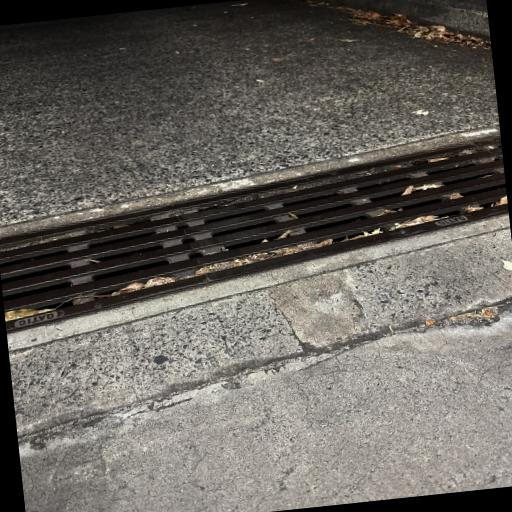gutter: (0, 134, 509, 346)
